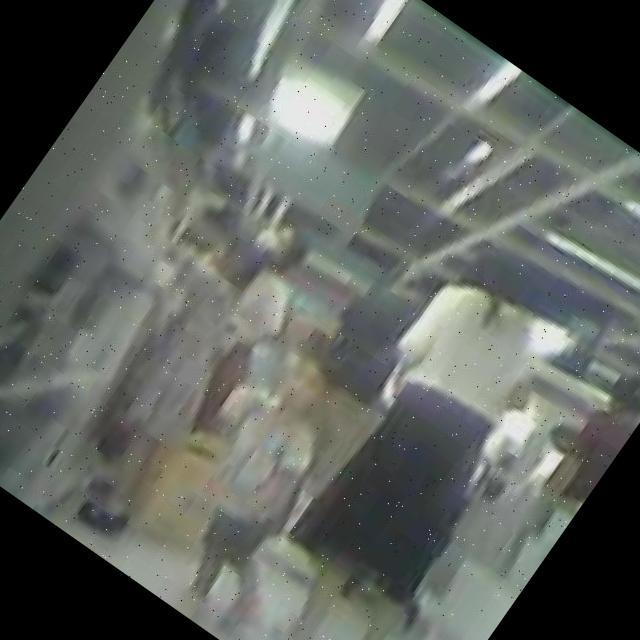person: (215, 241, 609, 640), (18, 217, 298, 543), (153, 345, 405, 628), (166, 217, 334, 418), (302, 231, 455, 398), (533, 362, 640, 517)
